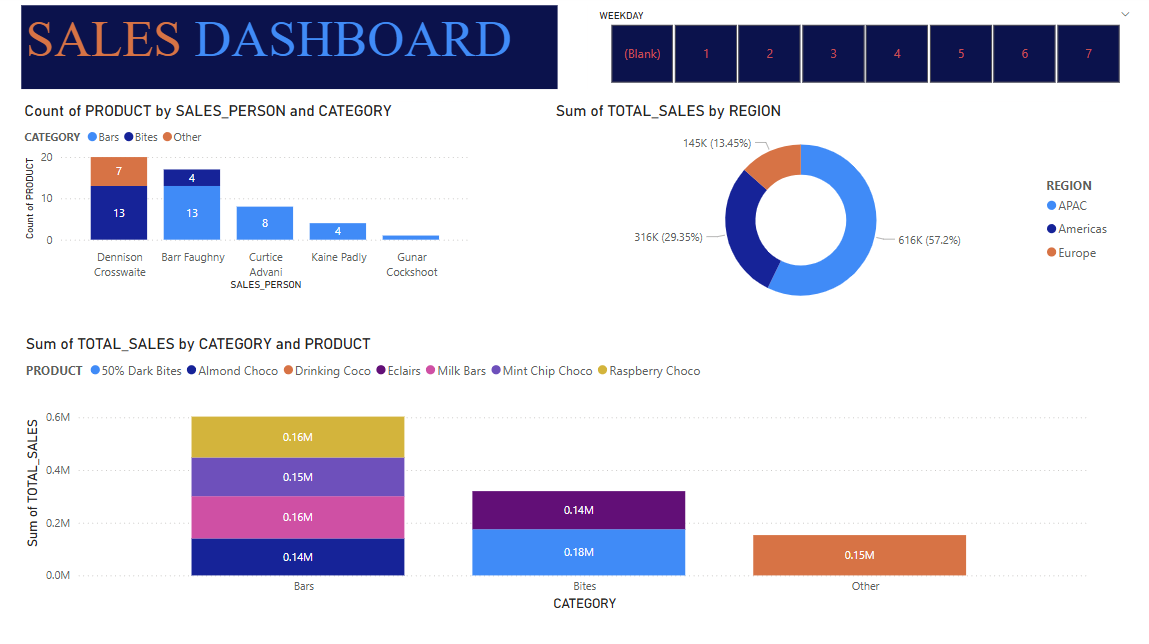

This screenshot's page, from the dashboard's own definition file:
{"tool":"powerbi","page":{"name":"JOINTS","canvas":[1280,720],"ordinal":2},"visuals":[{"type":"columnChart","fields":{"Category":["sales data with salesperson information.SALES_PERSON"],"Y":["CountNonNull(sales data with salesperson information.PRODUCT)"],"Series":["sales data with salesperson information.CATEGORY"]},"box":[27.4,118,499.5,212.7],"z":0},{"type":"donutChart","fields":{"Category":["total sales by region.REGION"],"Y":["Sum(total sales by region.TOTAL_SALES)"]},"box":[610.6,118,624.4,241.5],"z":1000},{"type":"columnChart","fields":{"Category":["best selling per category.CATEGORY"],"Series":["best selling per category.PRODUCT"],"Y":["Sum(best selling per category.TOTAL_SALES)"]},"box":[28.8,373.2,1178.7,308.7],"z":2000},{"type":"slicer","fields":{"Values":["days of week with sales greater than 70000.WEEKDAY"]},"box":[650.4,12.3,607.9,91.9],"z":2001},{"type":"textbox","box":[28.8,12.3,588.7,91.9],"z":2002}]}

Visuals, with their boxes in screenshot pixels (x1, y1, x2, y2), scaled from the page's 1280x720 canvas onto the 1149x644 screenshot:
columnChart - sales data with salesperson information.SALES_PERSON x CountNonNull(sales data with salesperson information.PRODUCT): left=25, top=106, right=473, bottom=296
donutChart - total sales by region.REGION x Sum(total sales by region.TOTAL_SALES): left=548, top=106, right=1109, bottom=322
columnChart - best selling per category.CATEGORY x best selling per category.PRODUCT: left=26, top=334, right=1084, bottom=610
slicer - days of week with sales greater than 70000.WEEKDAY: left=584, top=11, right=1130, bottom=93
textbox: left=26, top=11, right=554, bottom=93
